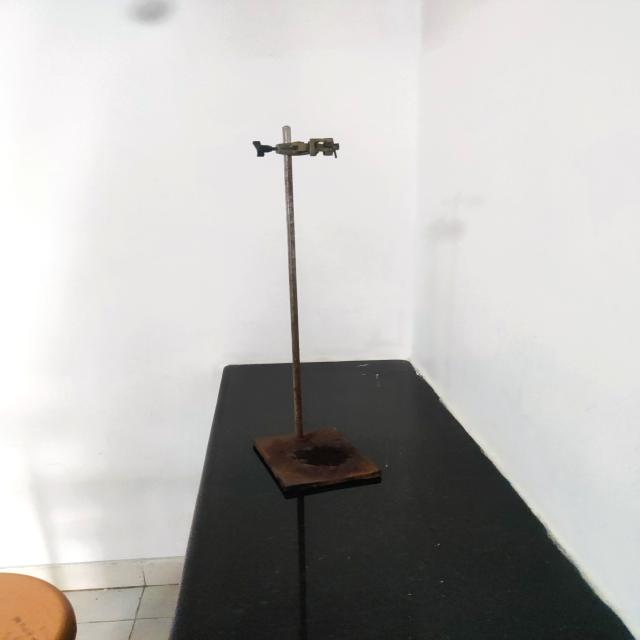Burette_Stands: (215, 110, 429, 533)
